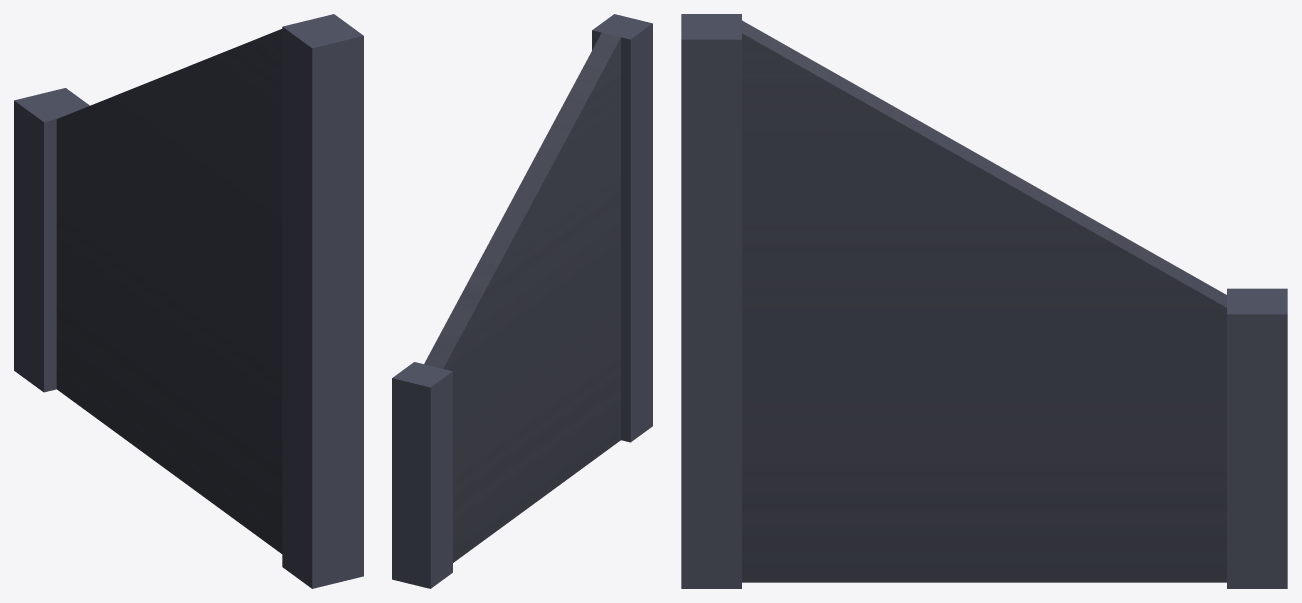
Rendered from wall-slope.glb.
3 views of the same model, side by side, from view 1: azimuth 30°, elevation 25°; view 2: azimuth 150°, elevation 25°; view 3: azimuth 270°, elevation 25° (orthographic). The views are drawn at different scales.
Parts seen in each view (by area): view 1: wall-slope; view 2: wall-slope; view 3: wall-slope.
Boxes of the visible parts, <box> form: wall-slope: <box>14,14,363,588</box>; wall-slope: <box>392,14,652,588</box>; wall-slope: <box>681,14,1287,588</box>.
Size of the model in its own units: 0.1 by 1 by 1.
Materials: 1 (1 with a texture image).
